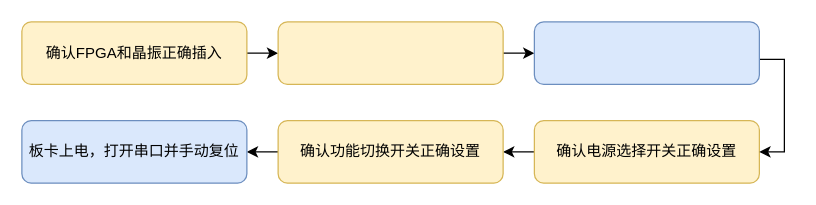
Some shapes in this 816 by 205 pixel diagram are drawn without their labels. The centre of each missing label's shape, as x and y in pixels:
安装串口驱动和串口调试软件: point 646,52
正确设置时钟和核选通拨码开关: point 390,52
